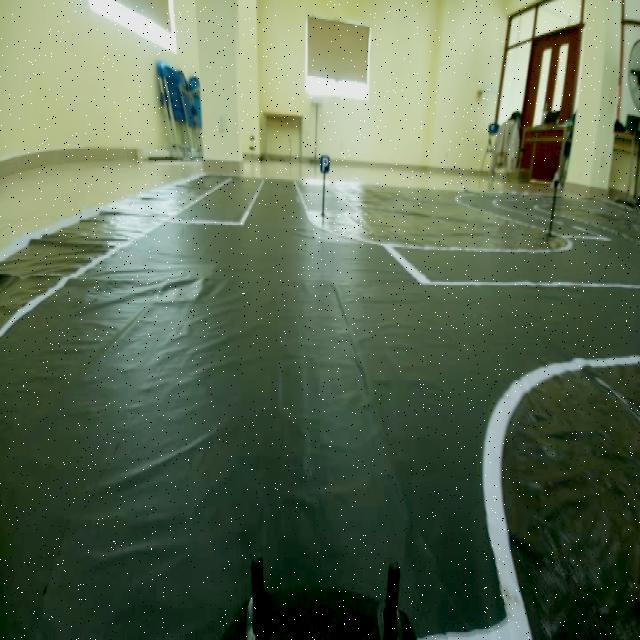parking: (315, 149, 335, 181)
